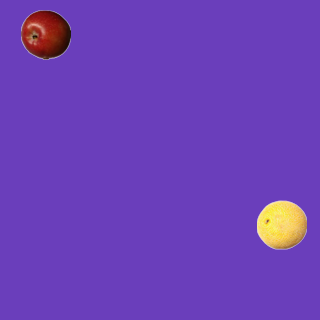Apple Braeburn: (20, 9, 70, 59)
Cantaloupe 1: (256, 199, 306, 249)
